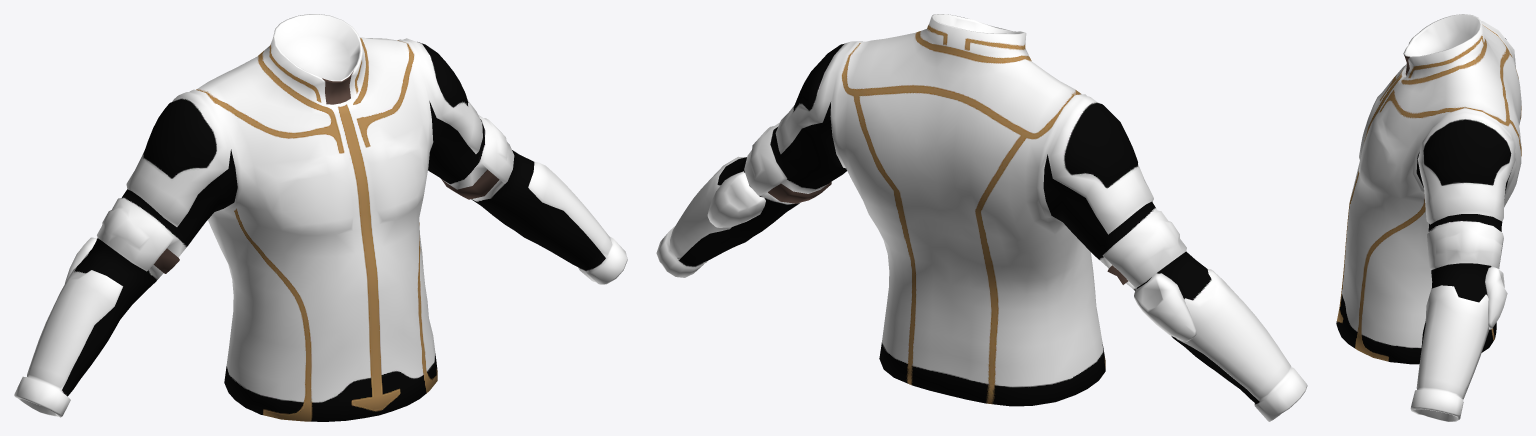
Rendered from SurvivorMale_Chest_Jacket_HardlineV2_LOD0.glb.
3 renders of one model, left to right at view 1: azimuth 30°, elevation 25°; view 2: azimuth 150°, elevation 25°; view 3: azimuth 270°, elevation 25°, orthographic. The views are drawn at different scales.
Parts seen in each view (by area): view 1: Hoodie; view 2: Hoodie; view 3: Hoodie.
Boxes of the visible parts, left/top/right/bottom form: Hoodie: left=14, top=14, right=627, bottom=421; Hoodie: left=656, top=14, right=1307, bottom=421; Hoodie: left=1336, top=14, right=1521, bottom=421.
Size of the model in its own units: 1.12 by 0.6033 by 0.3379.
Materials: 1 (1 with a texture image).
